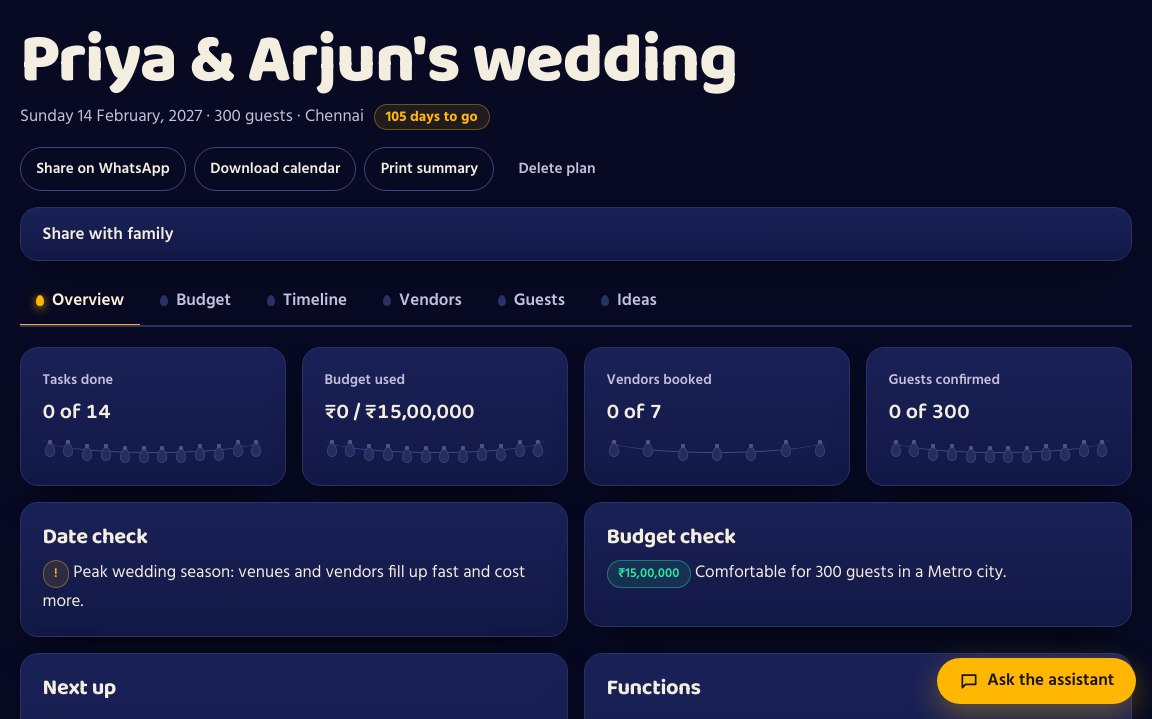
Test: Dashboard › applies an assistant proposal only after approval
Click the button "Ask the assistant" at (1037, 681), box top-left (937, 658), bottom-right (1136, 704)
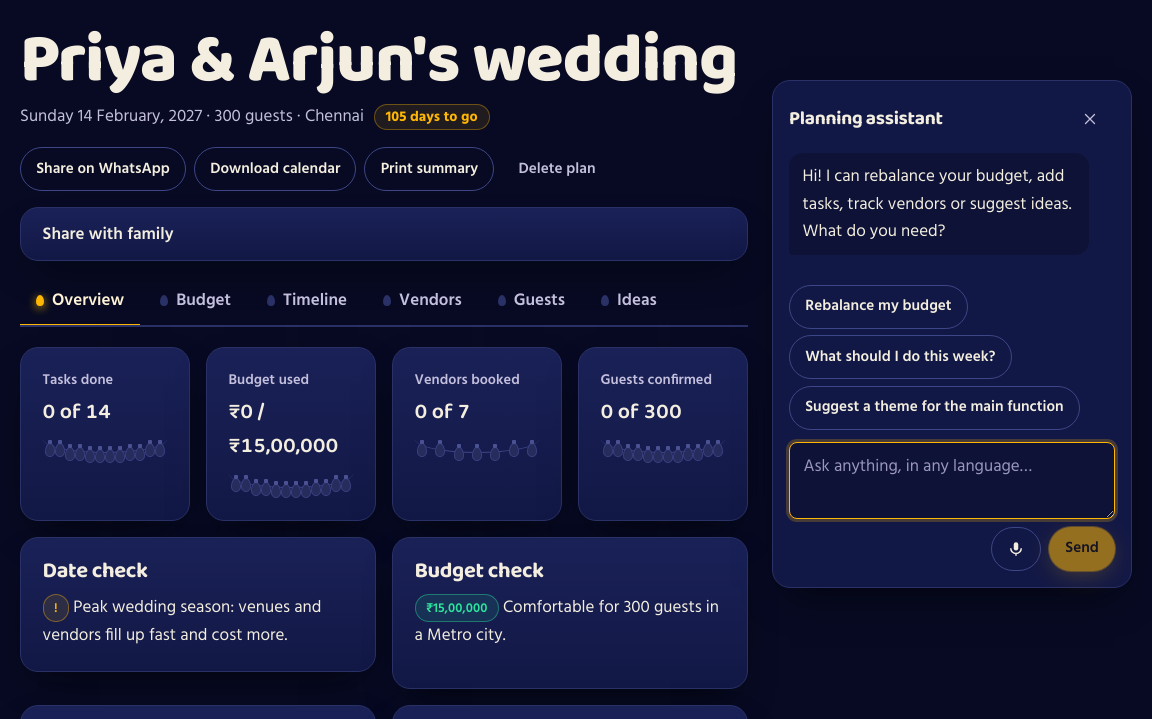
Type "rebalance" into the text box named "Message to the assistant" at (952, 480), box top-left (789, 442), bottom-right (1115, 519)
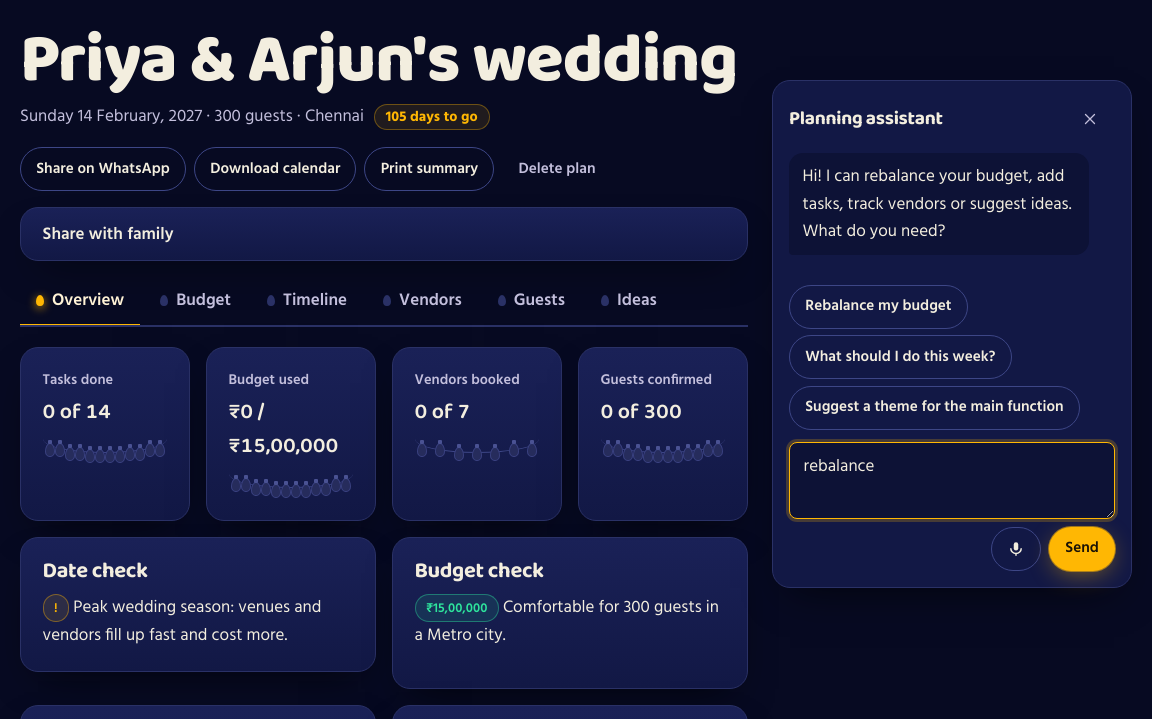
Click the button "Send" at (1082, 549), box top-left (1049, 527), bottom-right (1115, 571)
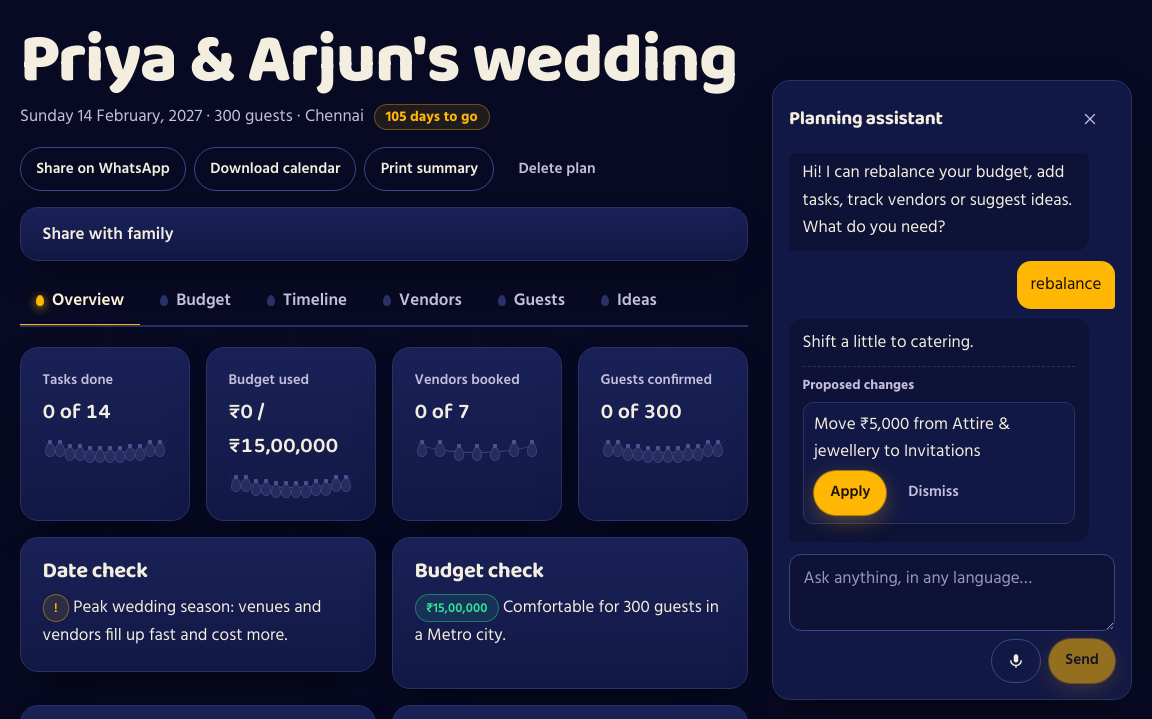
Expected: the text "Move ₹5,000 from Attire & jewellery to Invitations" is shown, top-left (814, 411), bottom-right (1014, 465)
Click the button "Apply" at (850, 493), box top-left (814, 471), bottom-right (886, 515)
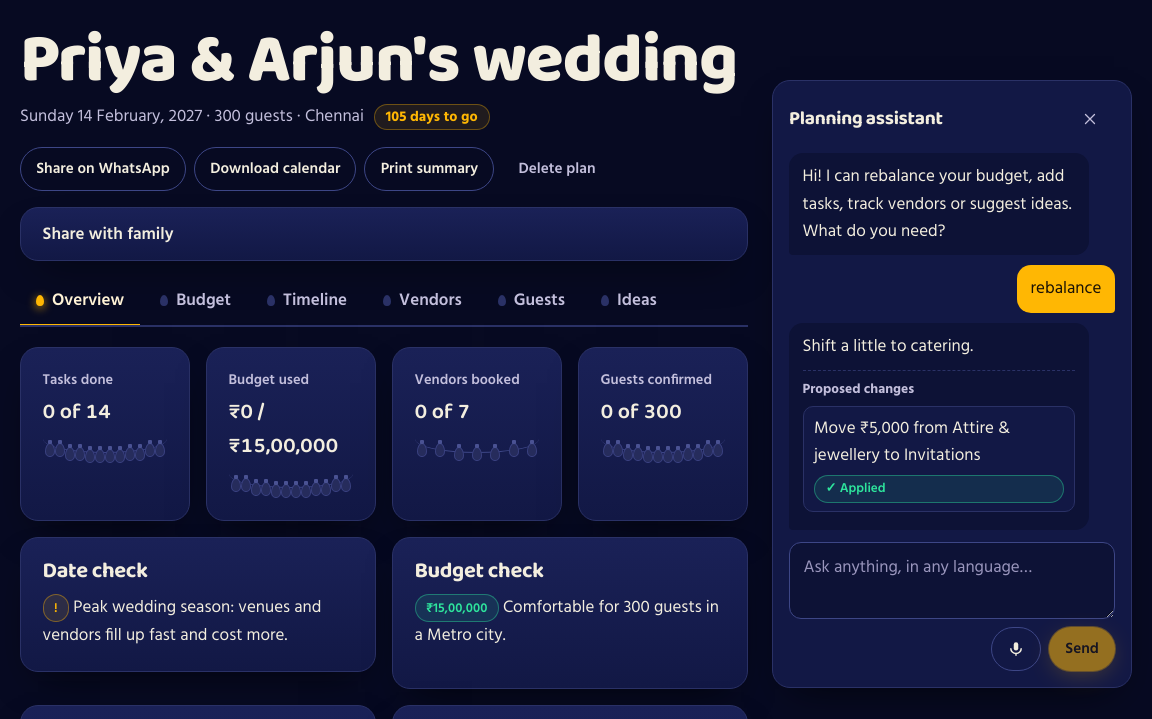
Expected: the text "✓ Applied" is shown, top-left (814, 475), bottom-right (1064, 503)
